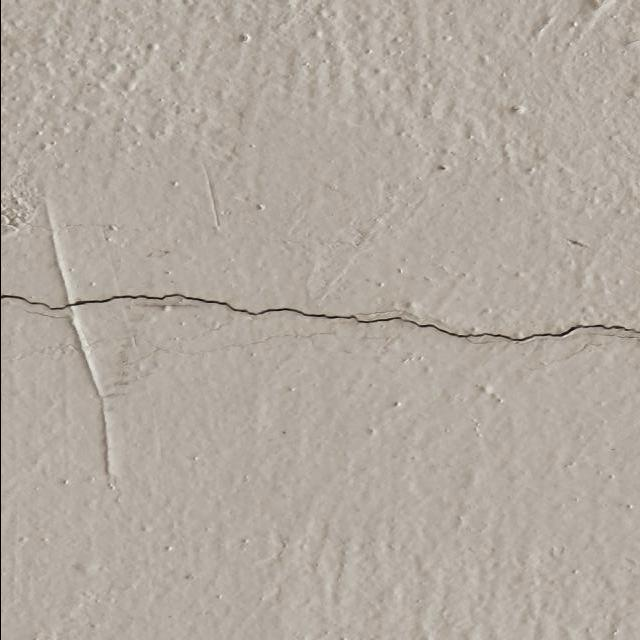SurfaceCrack: (1, 251, 640, 387)
